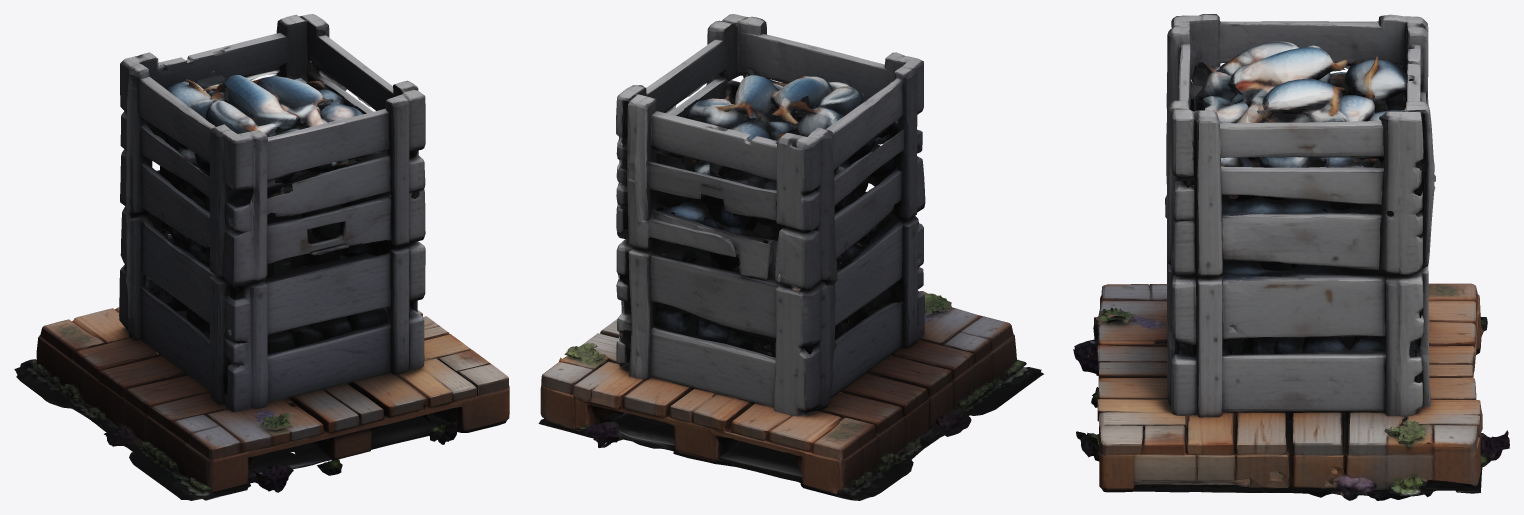
The model's file is cajas_pescado.glb.
3 renders of one model, left to right at view 1: azimuth 30°, elevation 25°; view 2: azimuth 150°, elevation 25°; view 3: azimuth 270°, elevation 25°, orthographic. The views are drawn at different scales.
Parts seen in each view (by area): view 1: world; view 2: world; view 3: world.
Part boxes in pixels (<box>): world: <box>14,14,509,500</box>; world: <box>538,14,1043,500</box>; world: <box>1073,14,1509,500</box>.
Bounding box in the file's own units: 1 × 0.9026 × 0.9965.
Materials: 1 (1 with a texture image).
